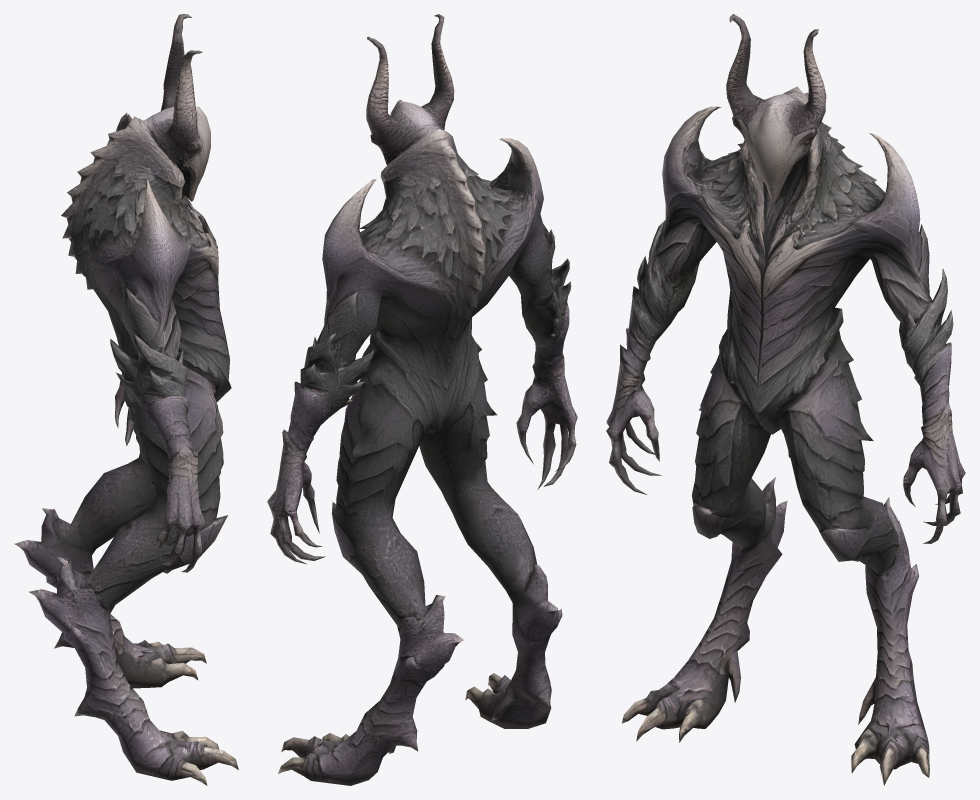
The model's file is model_url.glb.
3 renders of one model, left to right at view 1: azimuth 30°, elevation 25°; view 2: azimuth 150°, elevation 25°; view 3: azimuth 270°, elevation 25°, orthographic. The views are drawn at different scales.
Visible parts, largest first — view 1: tripo_node_ccd1e36a-0bf5-4370-bb4c-f952ce33755b; view 2: tripo_node_ccd1e36a-0bf5-4370-bb4c-f952ce33755b; view 3: tripo_node_ccd1e36a-0bf5-4370-bb4c-f952ce33755b.
Part boxes in pixels (x1,y1,x2,y2): tripo_node_ccd1e36a-0bf5-4370-bb4c-f952ce33755b: [14, 14, 238, 785]; tripo_node_ccd1e36a-0bf5-4370-bb4c-f952ce33755b: [267, 14, 577, 785]; tripo_node_ccd1e36a-0bf5-4370-bb4c-f952ce33755b: [606, 14, 965, 785].
Bounding box in the file's own units: 0.3404 × 0.998 × 0.4468.
Materials: 1 (1 with a texture image).
